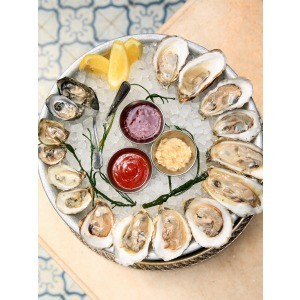oyster_brain food: (192, 115, 255, 238), (41, 78, 92, 197), (81, 206, 179, 262), (152, 34, 227, 99)
